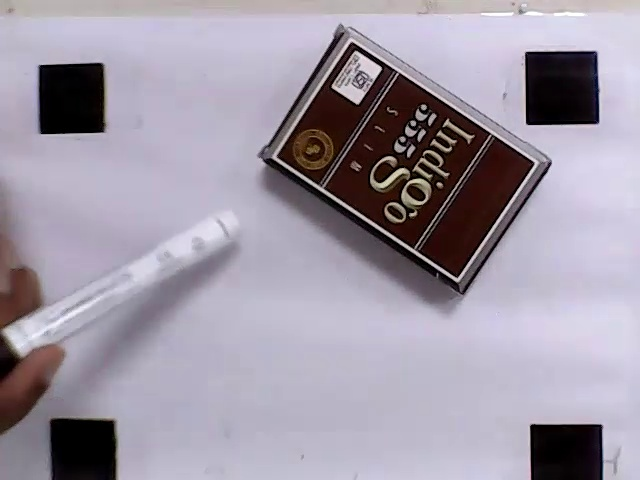BEX: (275, 39, 539, 281)
